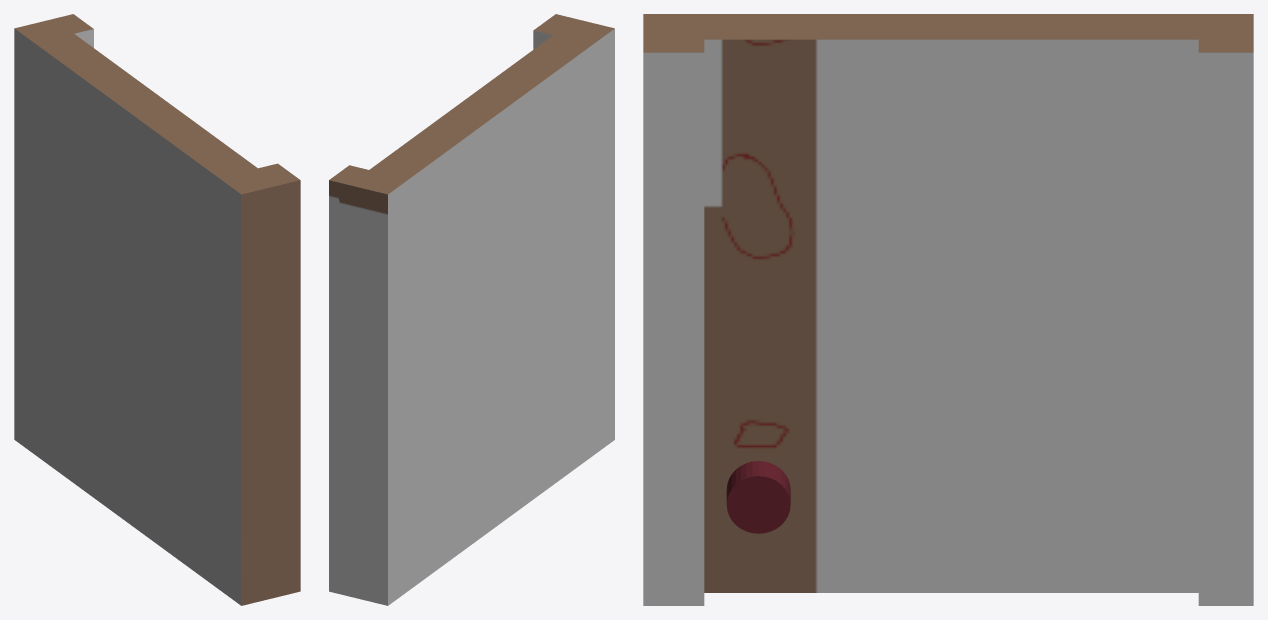
Rendered from buttonWall.fbx.
3 views of the same model, side by side, from view 1: azimuth 30°, elevation 25°; view 2: azimuth 150°, elevation 25°; view 3: azimuth 270°, elevation 25° (orthographic). The views are drawn at different scales.
Visible parts, largest first — view 1: Cube; view 2: Cube; view 3: Cube, Cylinder.
Boxes of the visible parts, x1,y1,x2,y2 form: Cube: [14, 14, 300, 605]; Cube: [329, 14, 614, 605]; Cube: [643, 14, 1253, 605]; Cylinder: [726, 461, 790, 533].
Bounding box in the file's own units: 31.58 × 200 × 200.
